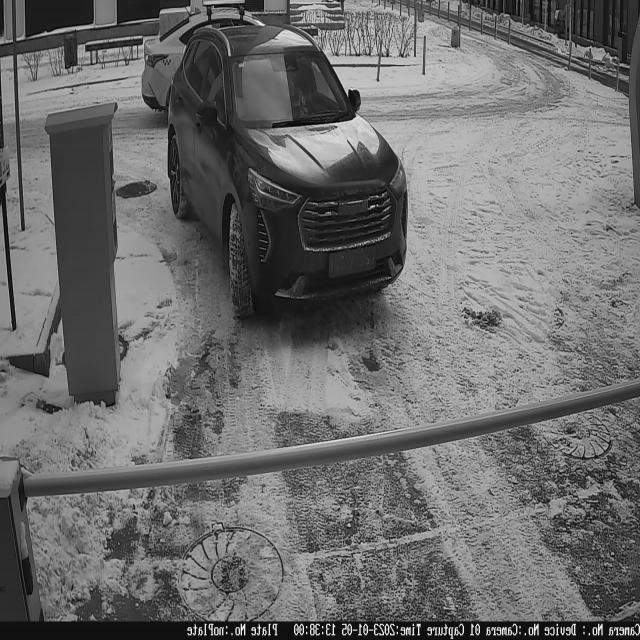car-plate-numbers: (326, 241, 379, 281)
